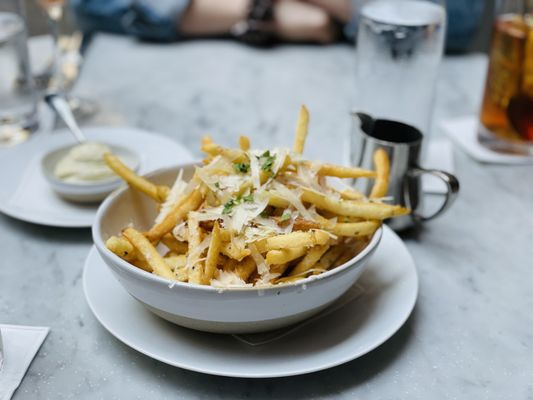sushi: (92, 140, 390, 335), (40, 141, 142, 205)
